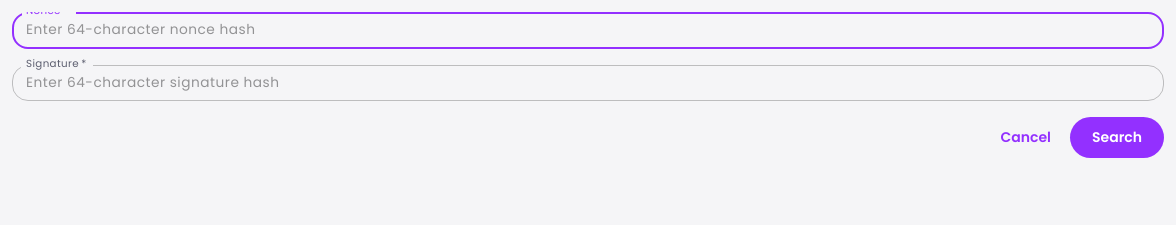
Test: SearchKernel › should show validation error for invalid signature length
// Valid 64-char nonce, invalid signature
Type "1234567890abcdef1234567890abcdef1234567890abcdef1234567890abcdef" into the field labelled "Nonce *" at (588, 30), box [12,12,1164,49]
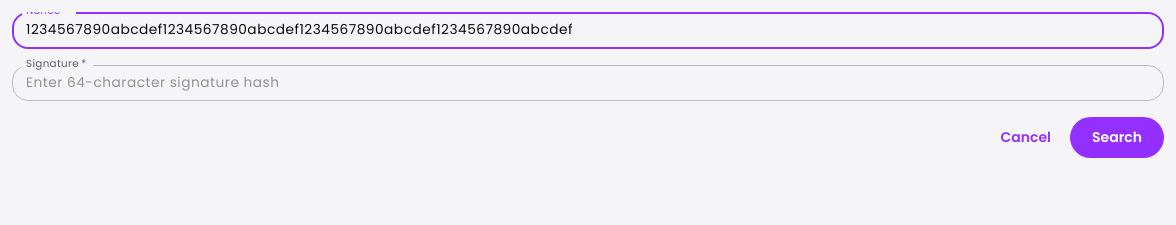
Type "short-sig" into the field labelled "Signature *" at (588, 83), box [12,65,1164,101]
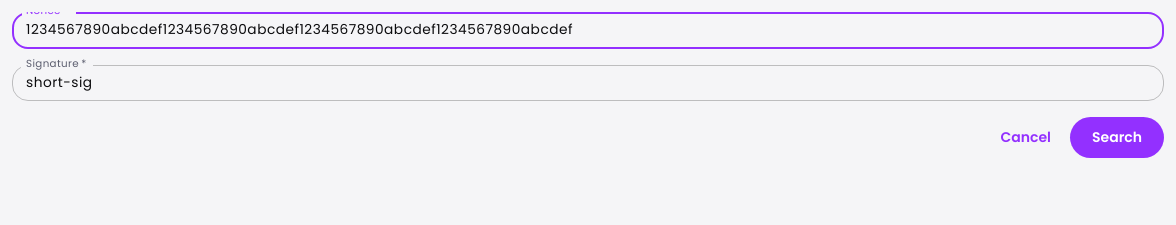
Click the button "Search" at (1117, 138), box [1070,117,1164,158]
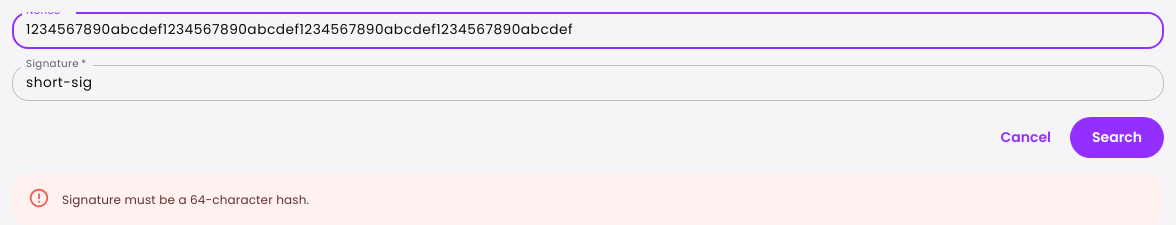
Expected: the text "Signature must be a 64-character hash." is shown, [62,191,309,208]
